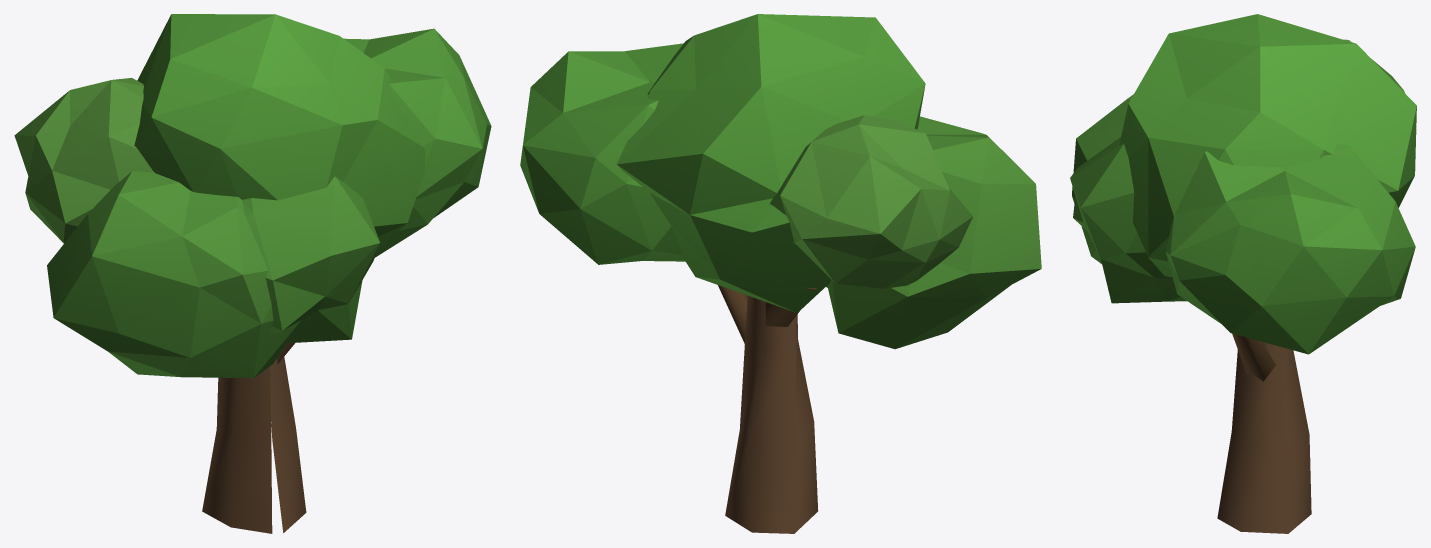
The model's file is arbol_2.glb.
3 views of the same model, side by side, from view 1: azimuth 30°, elevation 25°; view 2: azimuth 150°, elevation 25°; view 3: azimuth 270°, elevation 25° (orthographic). The views are drawn at different scales.
Parts seen in each view (by area): view 1: arbol_2; view 2: arbol_2; view 3: arbol_2.
Boxes of the visible parts, left/top/right/bottom form: arbol_2: left=14, top=14, right=491, bottom=533; arbol_2: left=520, top=14, right=1041, bottom=533; arbol_2: left=1070, top=14, right=1416, bottom=533.
Size of the model in its own units: 0.7291 by 0.7394 by 0.4854.
